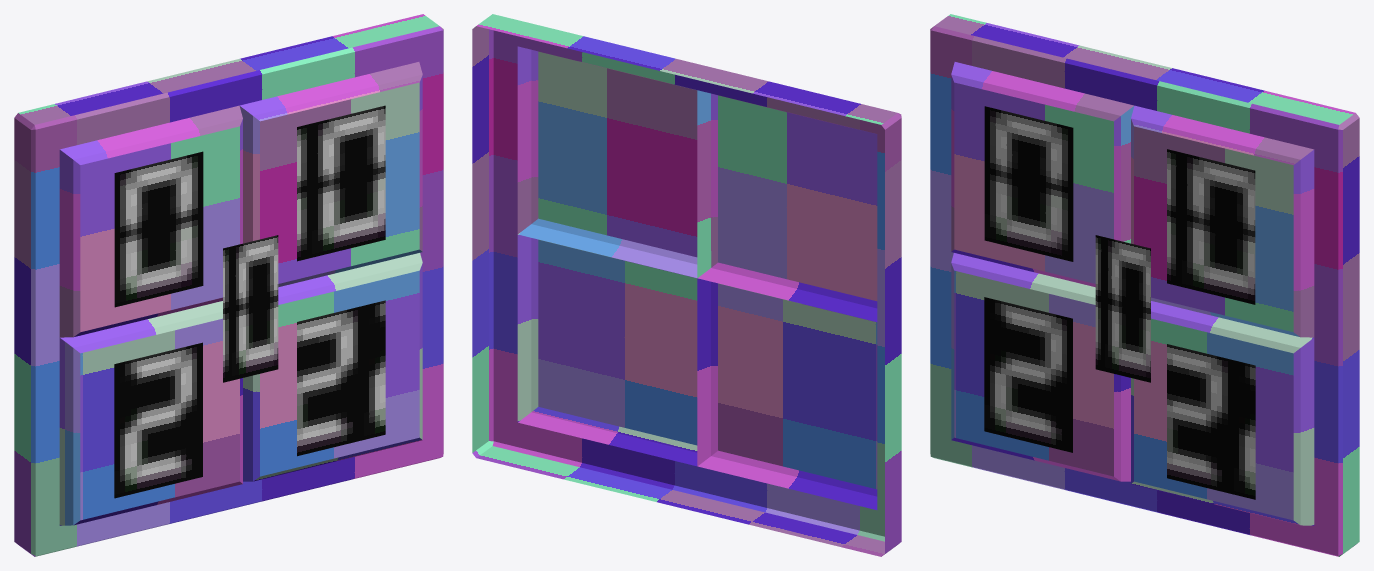
The model's file is rmk_mnc_wall_jwl.dae.
3 views of the same model, side by side, from view 1: azimuth 30°, elevation 25°; view 2: azimuth 150°, elevation 25°; view 3: azimuth 330°, elevation 25° (orthographic).
Parts seen in each view (by area): view 1: rmk_mnc_wall_jwl; view 2: rmk_mnc_wall_jwl; view 3: rmk_mnc_wall_jwl.
Boxes of the visible parts, x1,y1,x2,y2 form: rmk_mnc_wall_jwl: (14, 14, 443, 556); rmk_mnc_wall_jwl: (472, 14, 901, 556); rmk_mnc_wall_jwl: (930, 14, 1359, 556).
Size of the model in its own units: 26.16 by 26.16 by 3.44.
3 materials, 3 textured.
